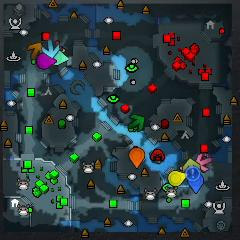Other: (187, 167, 201, 181)
p1: (189, 173, 204, 194)
p2: (53, 51, 69, 66)
p3: (37, 53, 57, 69)
p4: (168, 170, 188, 186)
p5: (129, 147, 145, 169)
x1: (197, 154, 211, 171)
x2: (182, 159, 200, 170)
x3: (43, 39, 59, 58)
x4: (128, 115, 145, 129)
x5: (28, 42, 43, 59)
